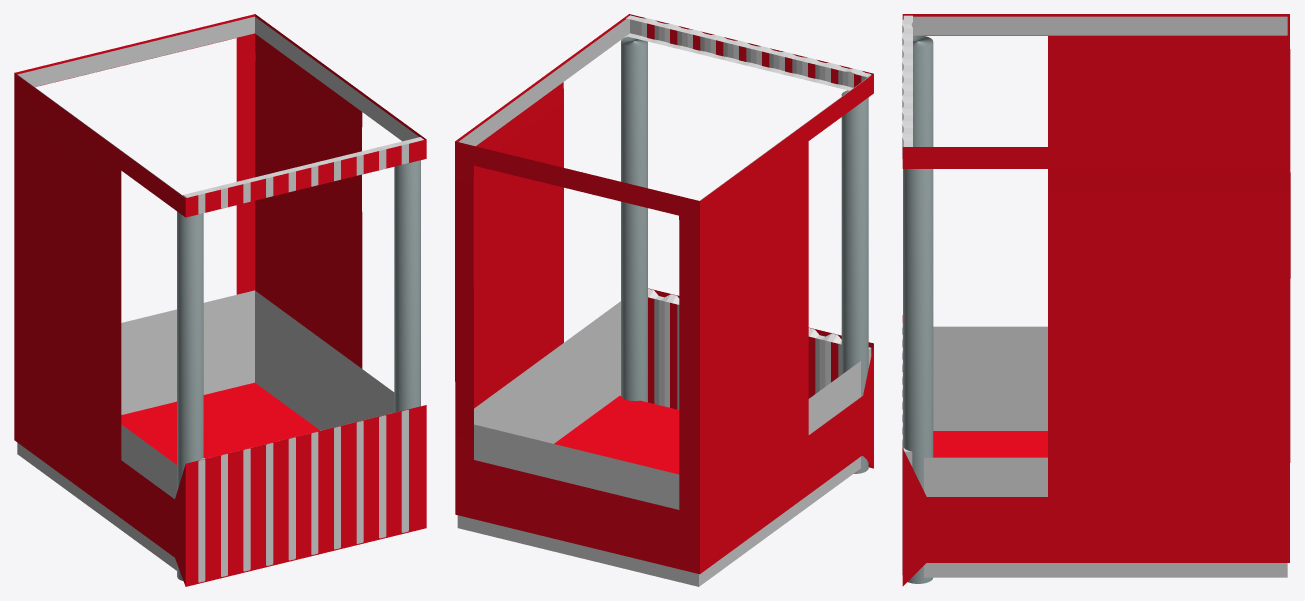
The model's file is stall.glb.
3 views of the same model, side by side, from view 1: azimuth 30°, elevation 25°; view 2: azimuth 150°, elevation 25°; view 3: azimuth 270°, elevation 25° (orthographic). The views are drawn at different scales.
Parts seen in each view (by area): view 1: Cube, Cube.002, Cube.001, Cylinder, Cylinder.001; view 2: Cube, Cube.002, Cylinder.001, Cylinder, Cube.001; view 3: Cube, Cube.002, Cylinder.001, Cube.001, Cylinder.
Boxes of the visible parts, <box> form: Cube: <box>14,14,426,586</box>; Cube.002: <box>17,290,408,582</box>; Cube.001: <box>17,16,423,214</box>; Cylinder: <box>177,211,203,580</box>; Cylinder.001: <box>394,160,420,412</box>; Cube: <box>455,14,873,574</box>; Cube.002: <box>457,288,871,586</box>; Cylinder.001: <box>621,36,647,402</box>; Cylinder: <box>841,90,868,473</box>; Cube.001: <box>459,15,871,200</box>; Cube: <box>902,14,1290,586</box>; Cube.002: <box>902,322,1287,577</box>; Cylinder.001: <box>903,169,933,583</box>; Cube.001: <box>902,15,1287,158</box>; Cylinder: <box>913,35,933,146</box>.
Size of the model in its own units: 4.39 by 6.77 by 5.42.
